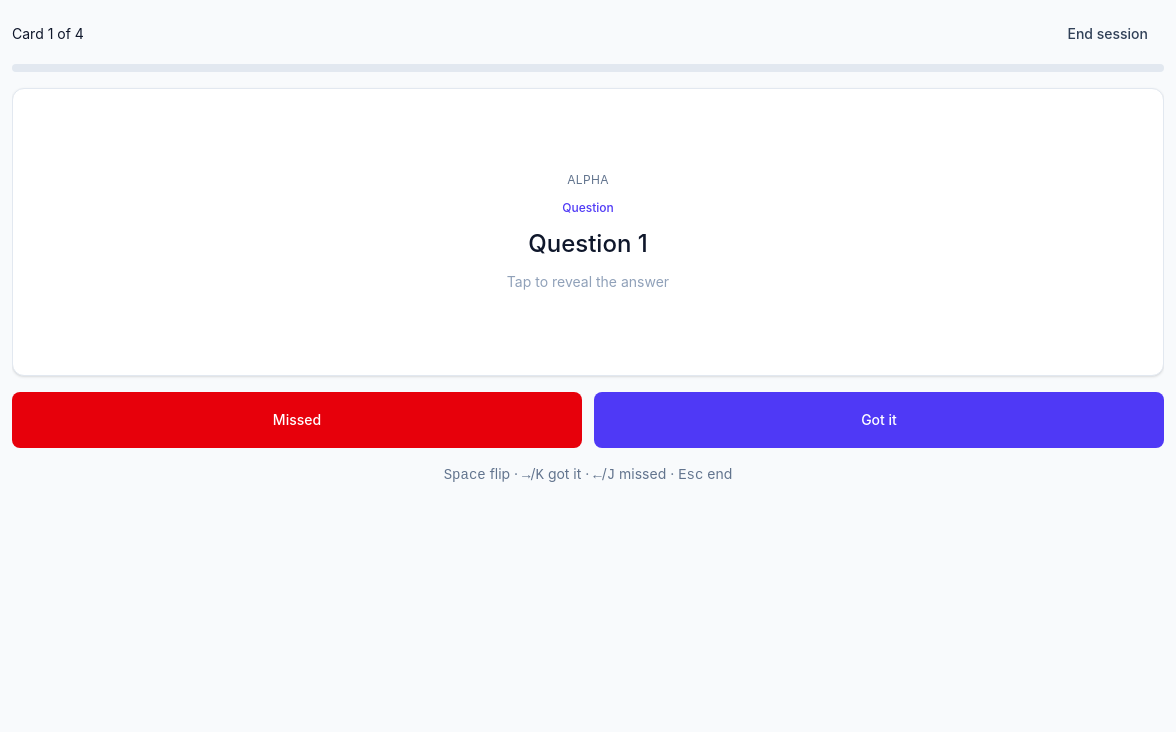
study session › Got it / Missed advance to an unflipped next card
Click the button with test id "flashcard": (81, 232) [12,88,1164,376]
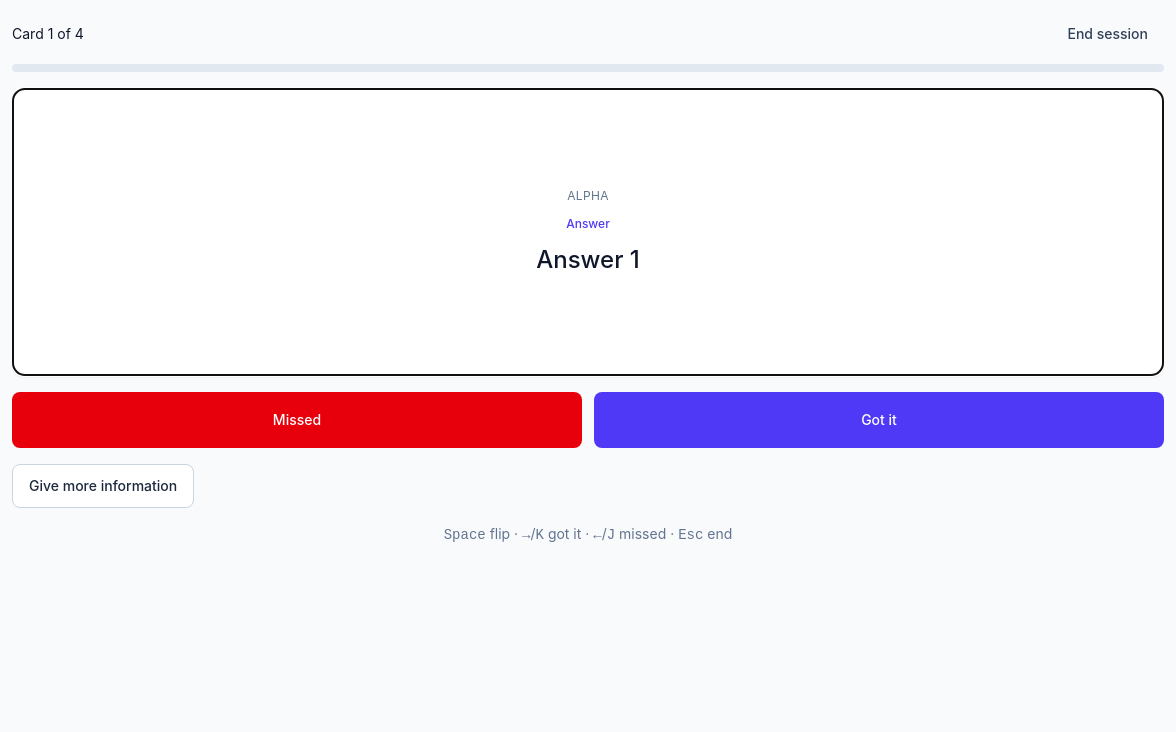
Click the button "Got it": (879, 420) [594,392,1164,448]
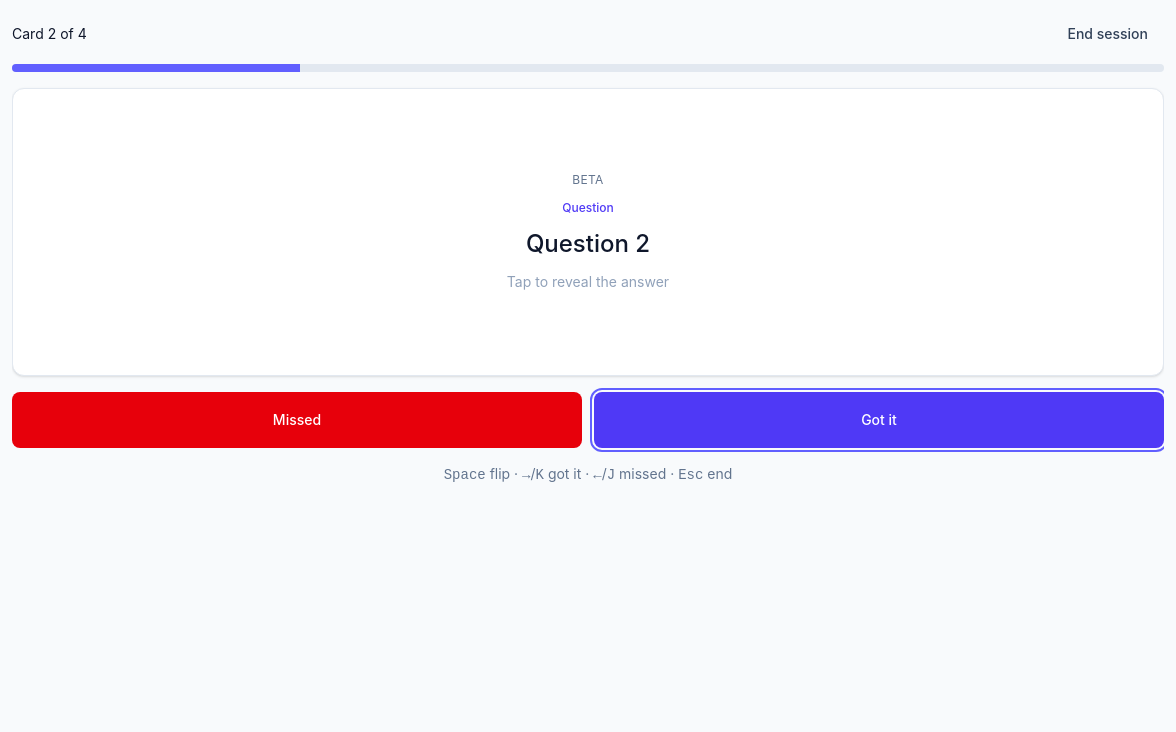
Expected: the text "Card 2 of 4" is shown, [12,24,87,44]
Expected: the button with test id "flashcard" shows "Question 2", [12,88,1164,376]
Click the button "Missed": (297, 420) [12,392,582,448]
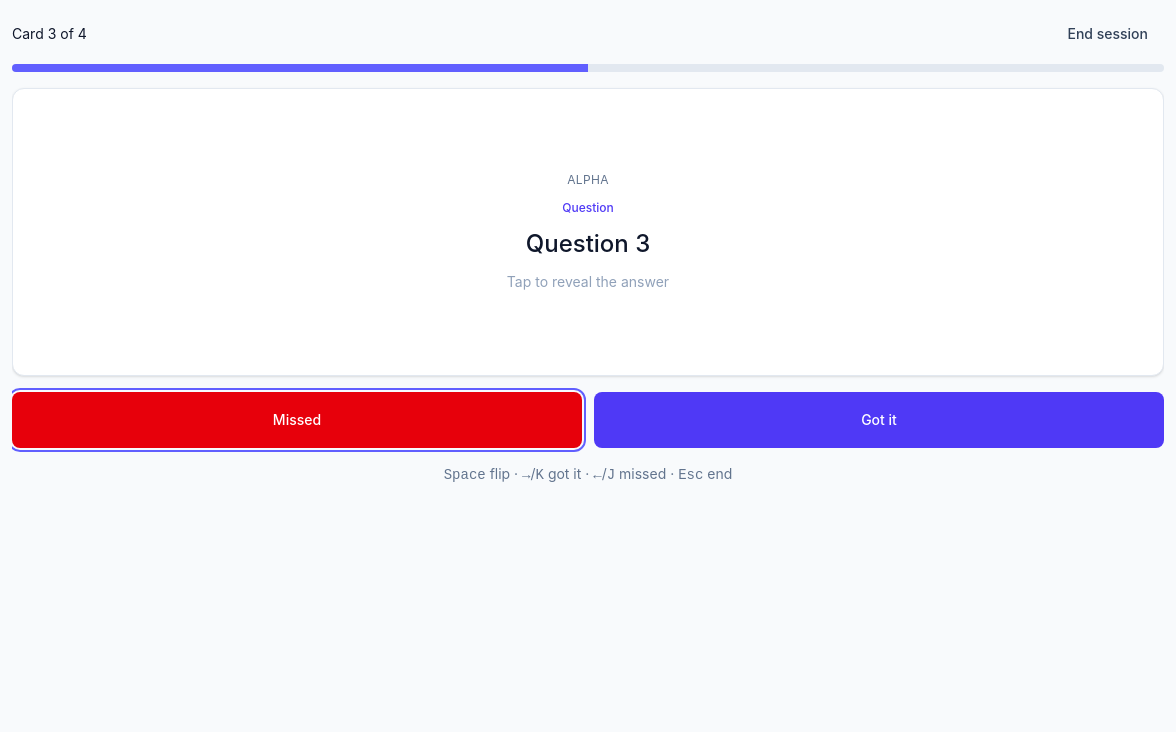
Expected: the text "Card 3 of 4" is shown, [12,24,87,44]
